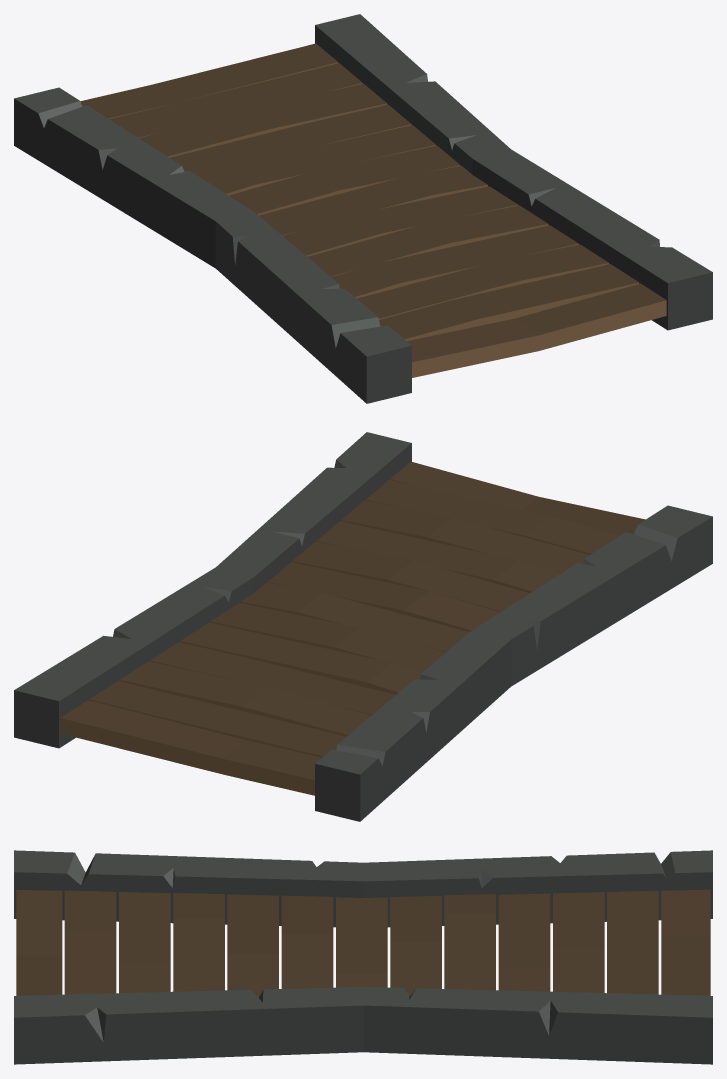
The model's file is Bridge_1_Brown.fbx.
The picture shows the model from 3 angles, top to bottom: view 1: azimuth 30°, elevation 25°; view 2: azimuth 150°, elevation 25°; view 3: azimuth 270°, elevation 25°; orthographic projection.
Parts seen in each view (by area): view 1: Bridge_1_Brown_Part_3, Bridge_1_Brown_Part_1, Bridge_1_Brown_Part_4, Bridge_1_Brown_Part_2; view 2: Bridge_1_Brown_Part_3, Bridge_1_Brown_Part_1, Bridge_1_Brown_Part_4, Bridge_1_Brown_Part_2; view 3: Bridge_1_Brown_Part_1, Bridge_1_Brown_Part_3, Bridge_1_Brown_Part_2.
Boxes of the visible parts, x1,y1,x2,y2 form: Bridge_1_Brown_Part_3: (80,43,666,362); Bridge_1_Brown_Part_1: (14,14,712,403); Bridge_1_Brown_Part_4: (108,62,666,377); Bridge_1_Brown_Part_2: (38,74,659,348); Bridge_1_Brown_Part_3: (61,461,645,779); Bridge_1_Brown_Part_1: (14,432,712,821); Bridge_1_Brown_Part_4: (60,479,591,795); Bridge_1_Brown_Part_2: (113,459,677,765); Bridge_1_Brown_Part_1: (14,850,712,1064); Bridge_1_Brown_Part_3: (16,889,710,997); Bridge_1_Brown_Part_2: (67,852,675,1042).
Size of the model in its own units: 1150 by 150 by 2030.
